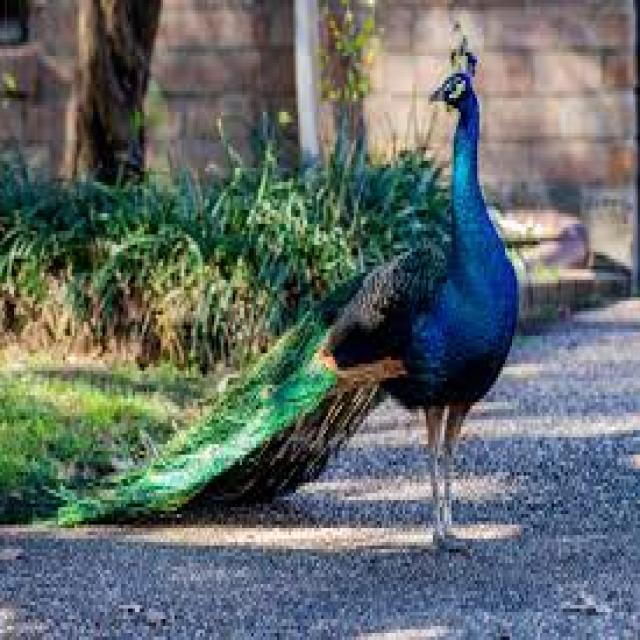peacock: (67, 32, 591, 600)
